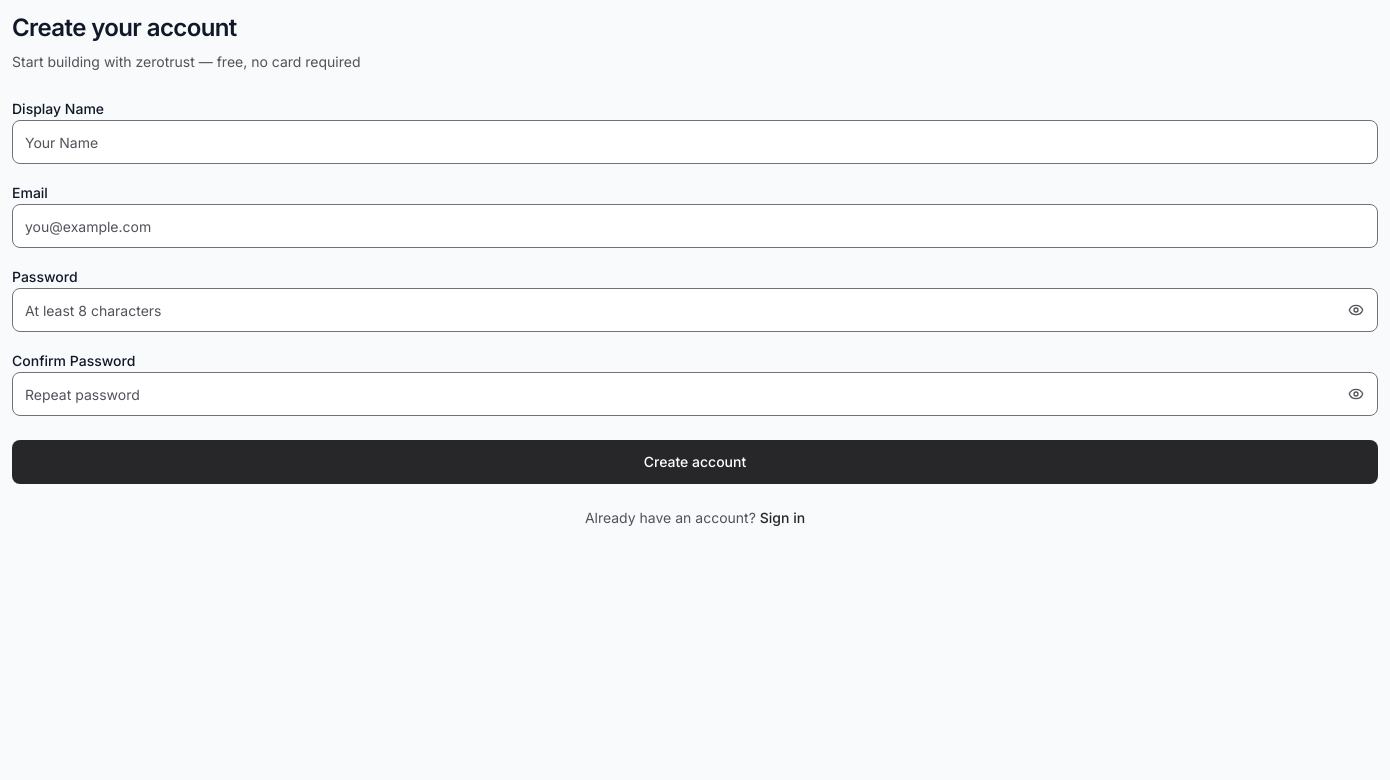
Test: RegisterPage › rejects a password that doesn't meet the complexity requirements
Step 1. Type "Jane Doe" into the field labelled "Display Name" → (695,142), box 12,120 -> 1378,164
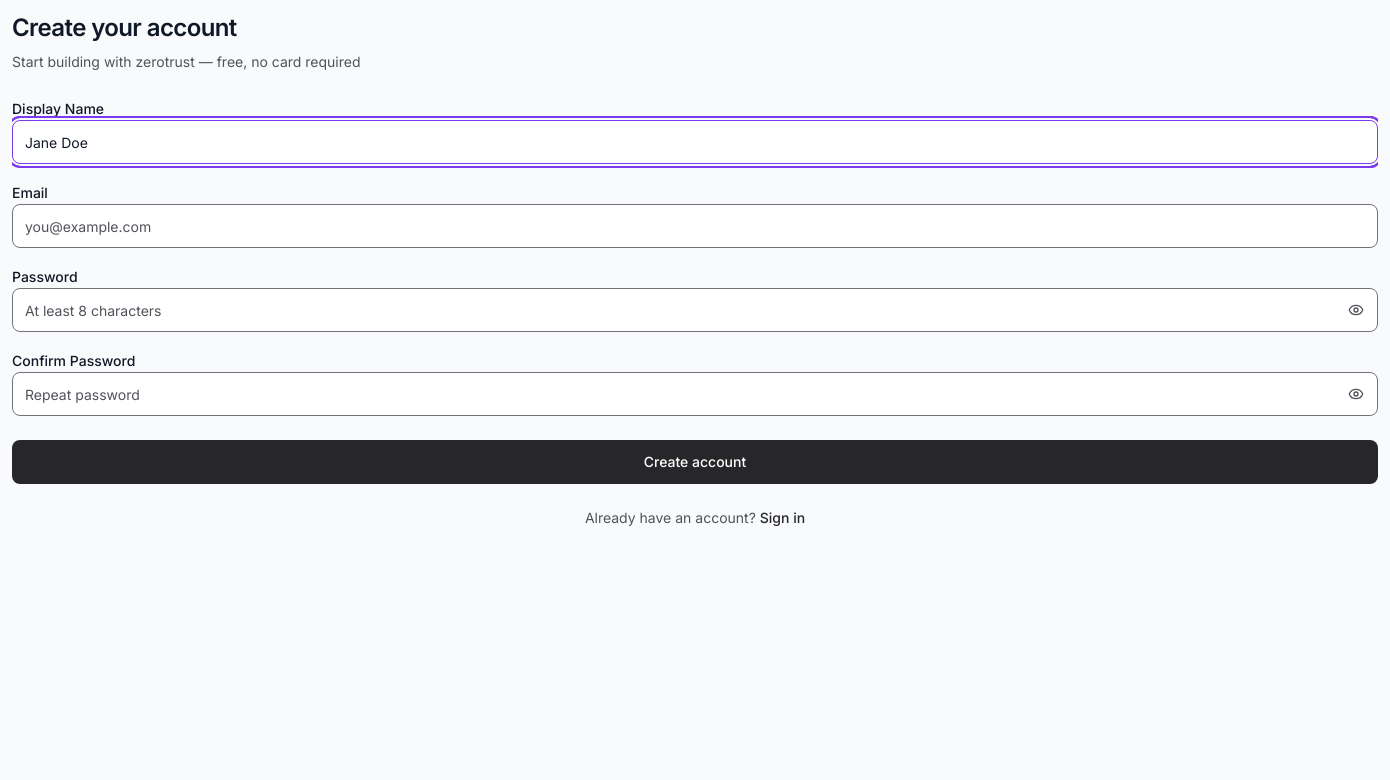
Step 2. Type "jane@example.com" into the field labelled "Email" → (695,226), box 12,204 -> 1378,248
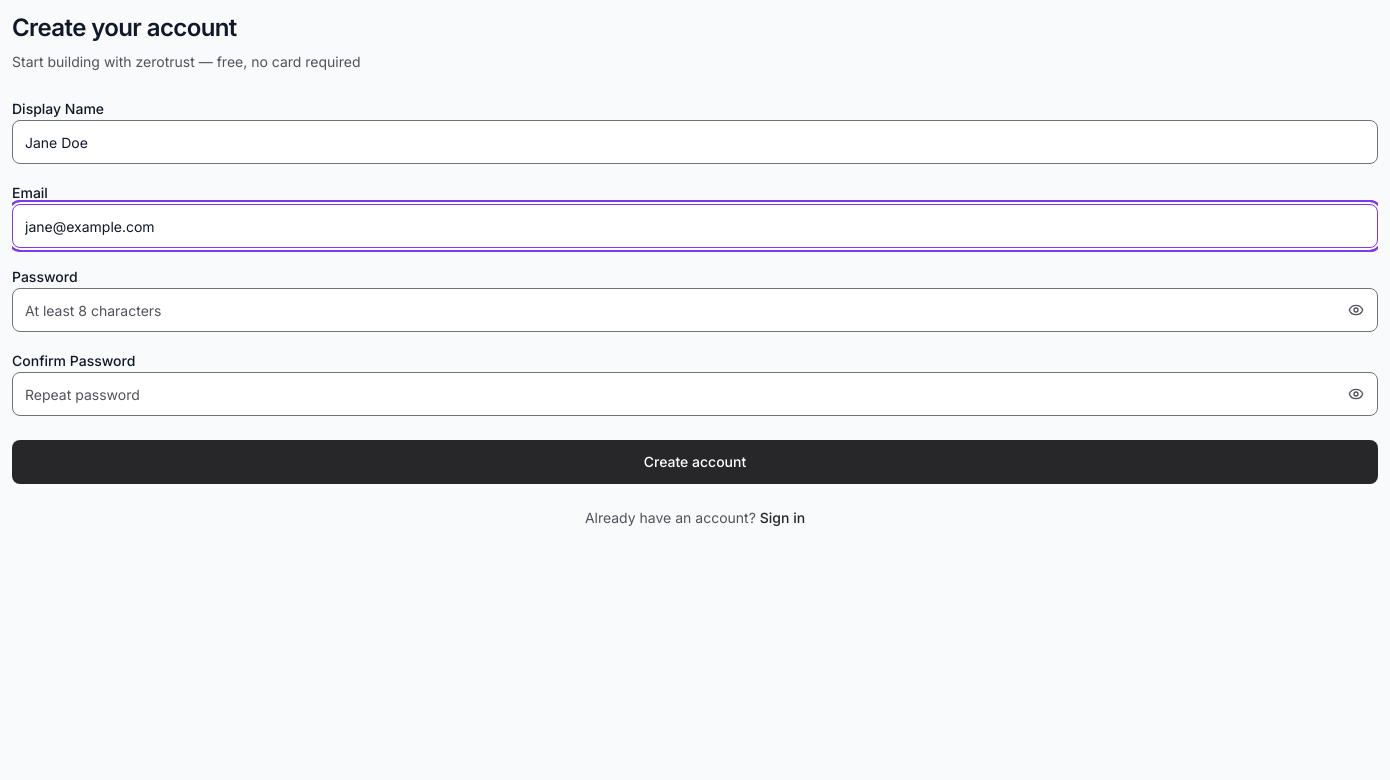
Step 3. Type "hunter#2222" into the password field labelled "Password" → (695,310), box 12,288 -> 1378,332
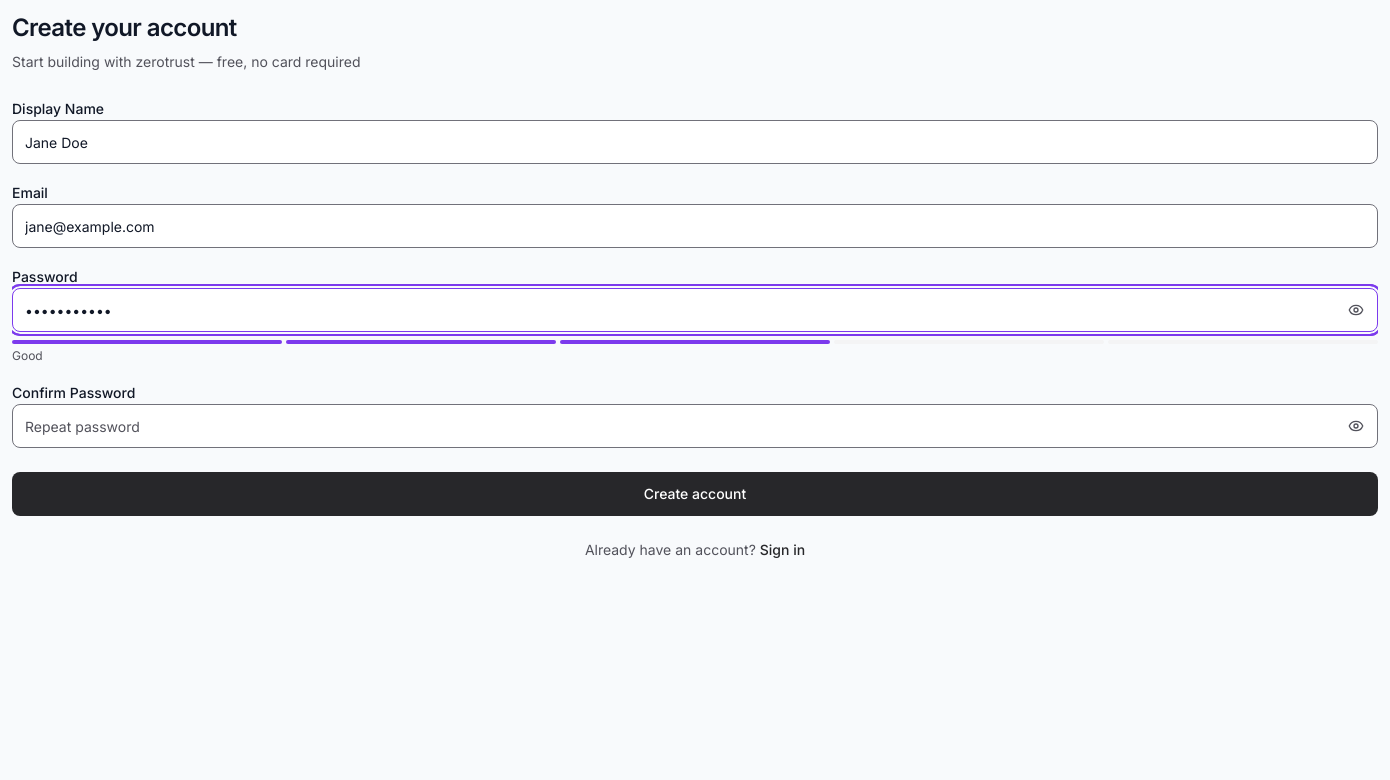
Step 4. Type "hunter#2222" into the password field labelled "Confirm Password" → (695,426), box 12,404 -> 1378,448
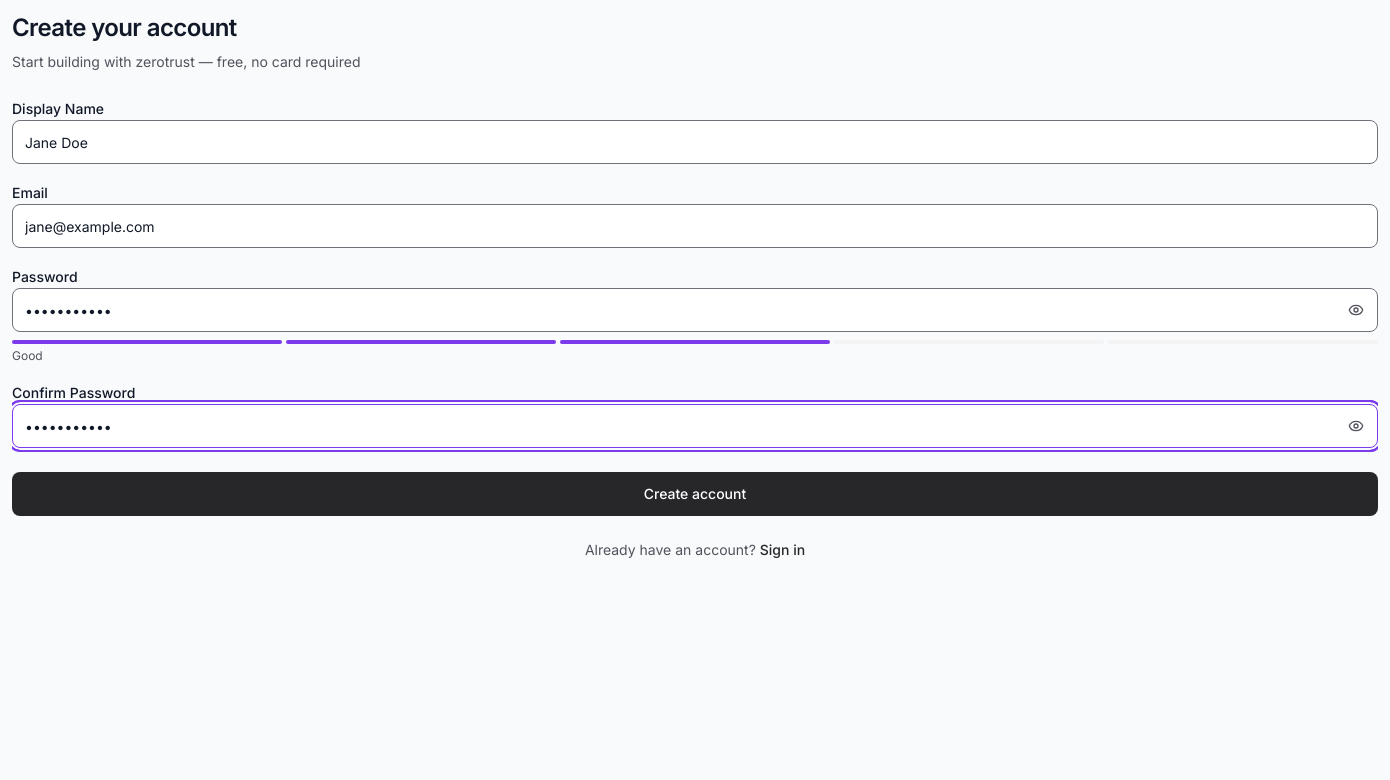
Step 5. Click the button "Create account" → (695,494), box 12,472 -> 1378,516
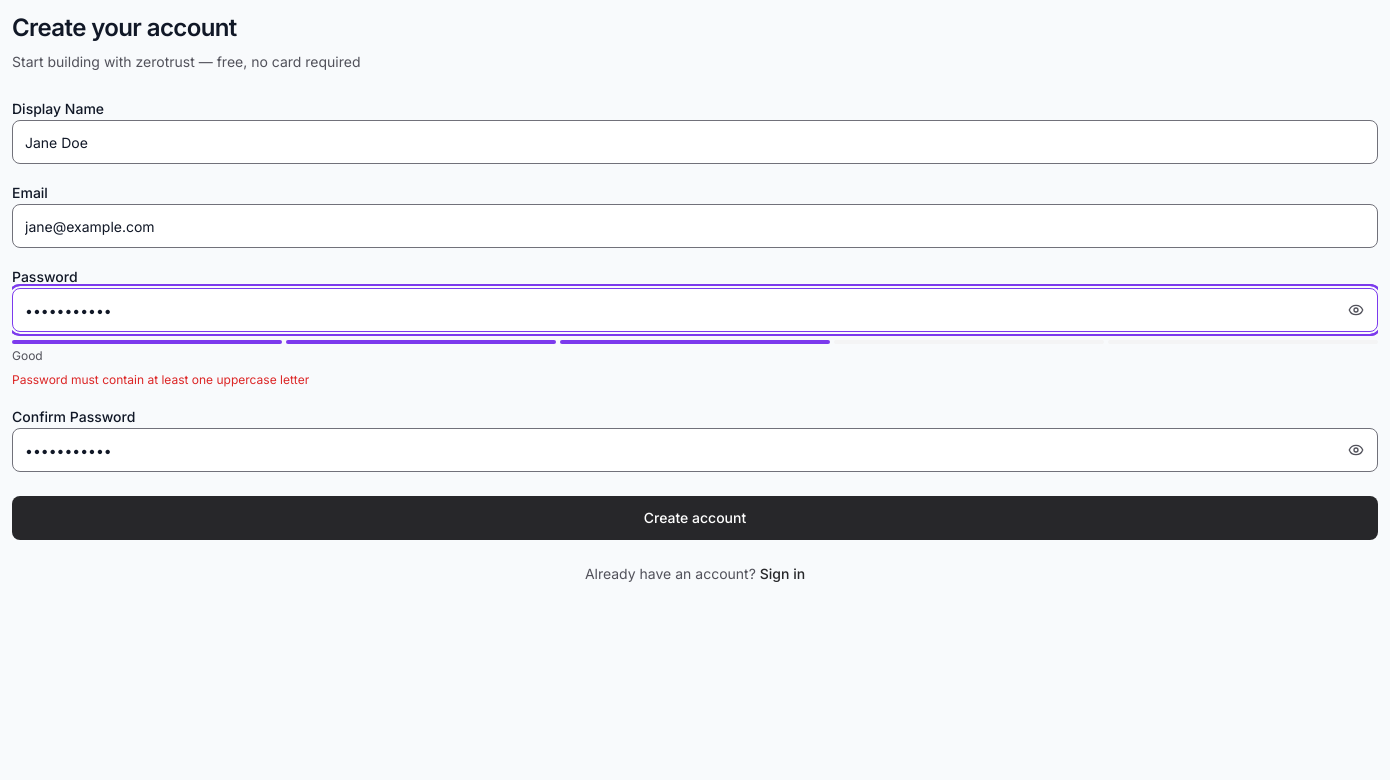
Result: the text "Password must contain at least one uppercase letter" is shown at 12,372 -> 309,387
